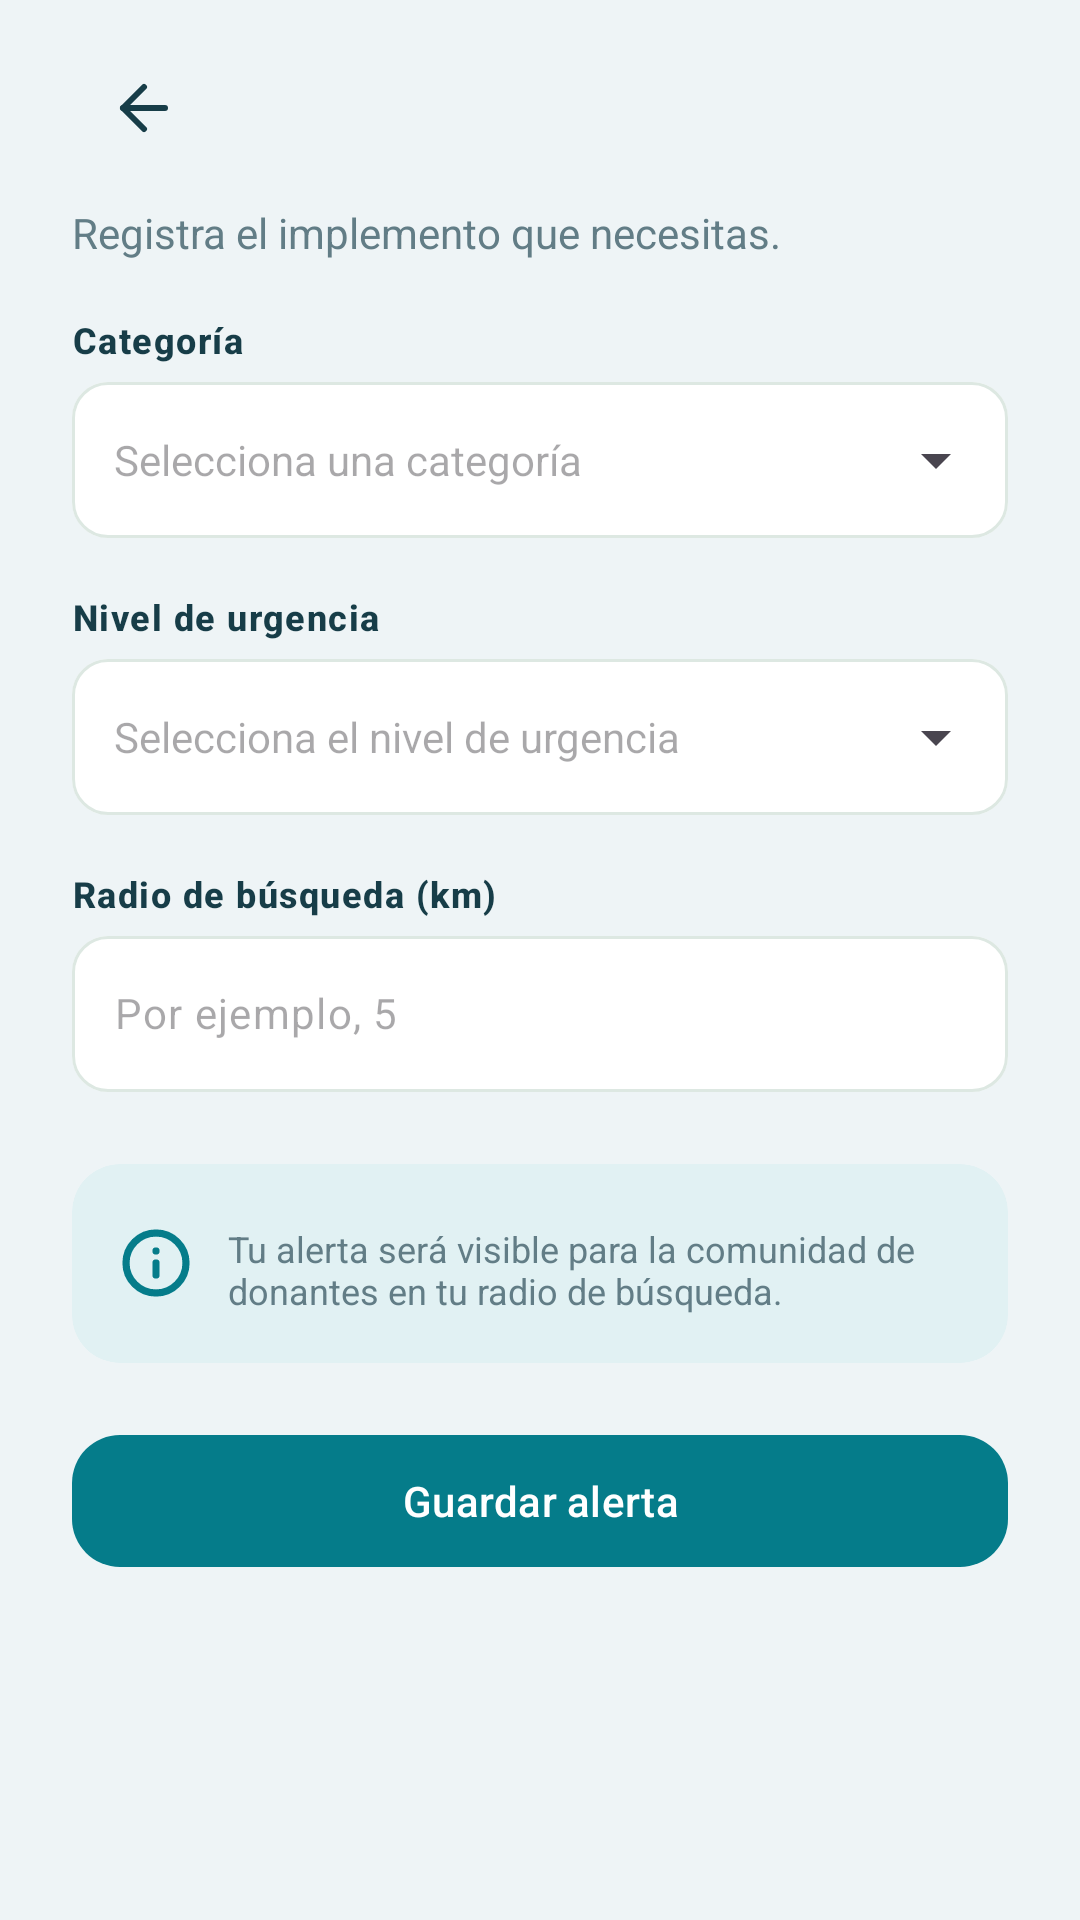

Locate icon controls on the screen. Image size 1080 × 1920, boxes as [left=x1, top=y1, right=x2, bottom=y2].
Volver: [left=120, top=84, right=168, bottom=132]
